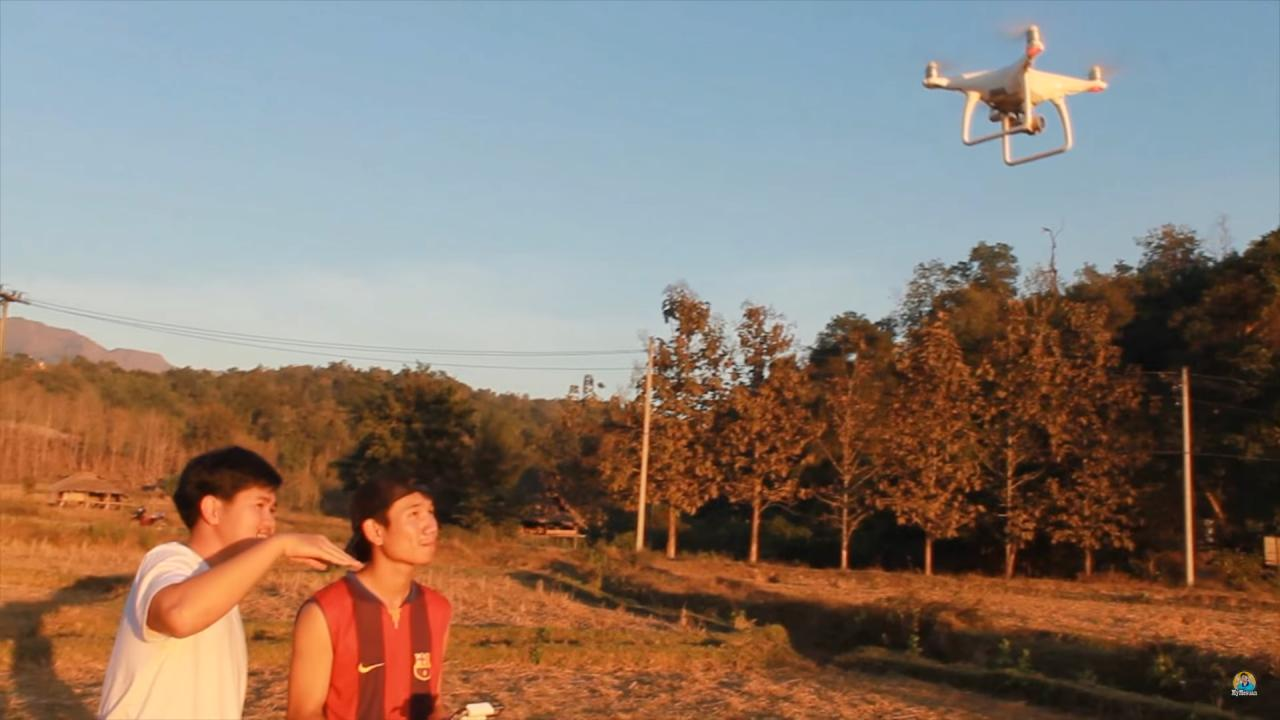Drone: (900, 12, 1140, 178)
